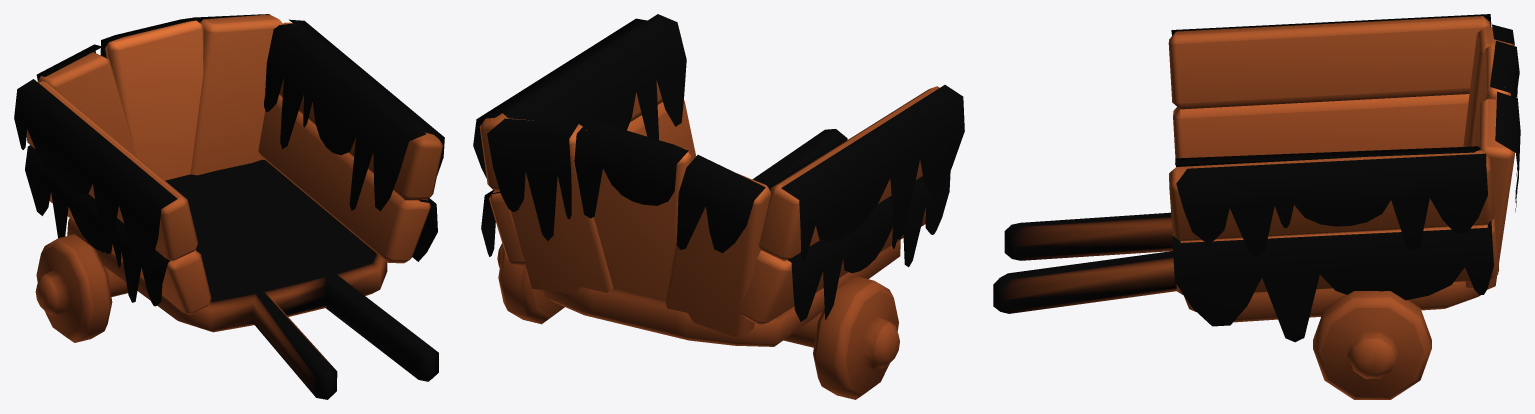
The model's file is Barrow.fbx.
The picture shows the model from 3 angles, left to right: view 1: azimuth 30°, elevation 25°; view 2: azimuth 150°, elevation 25°; view 3: azimuth 270°, elevation 25°; orthographic projection. The views are drawn at different scales.
Parts seen in each view (by area): view 1: Barrow; view 2: Barrow; view 3: Barrow.
Part boxes in pixels (x1,y1,x2,y2): Barrow: [14, 14, 444, 399]; Barrow: [473, 14, 964, 399]; Barrow: [993, 14, 1520, 399].
Bounding box in the file's own units: 193 × 126 × 233.
